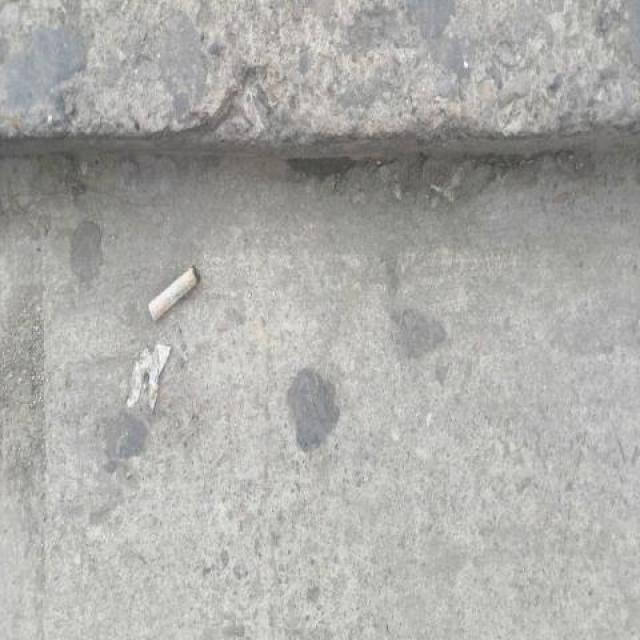non-organic waste: (144, 261, 204, 327)
